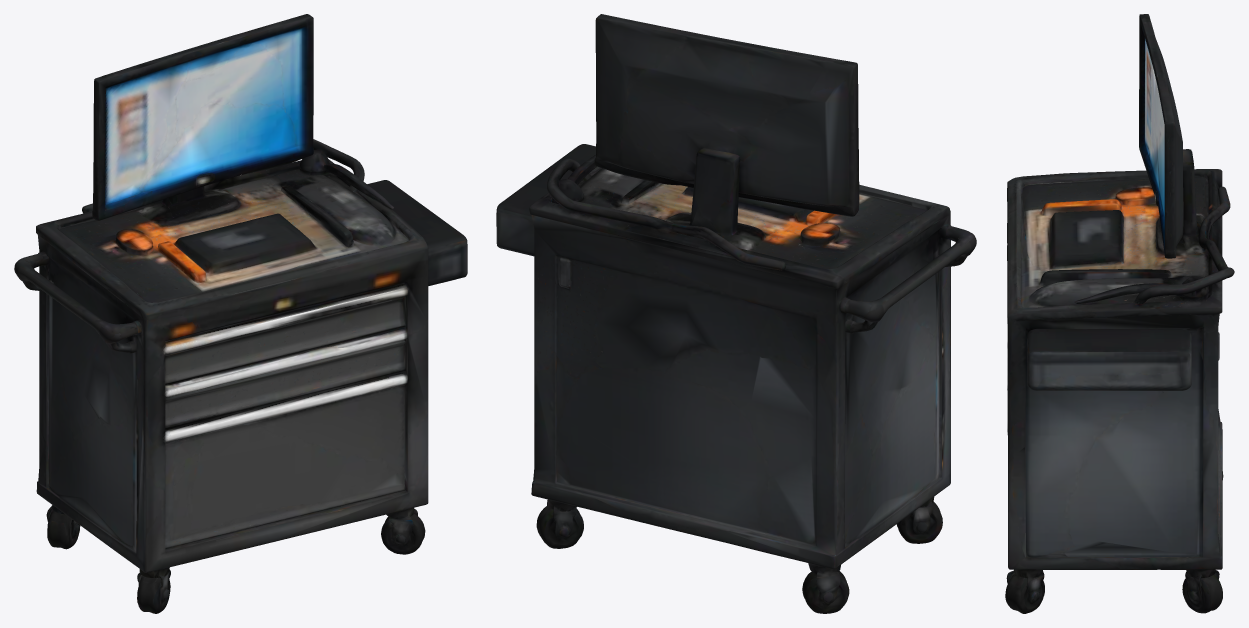
File: diagnostic.glb
The picture shows the model from 3 angles, left to right: view 1: azimuth 30°, elevation 25°; view 2: azimuth 150°, elevation 25°; view 3: azimuth 270°, elevation 25°; orthographic projection. The views are drawn at different scales.
Visible parts, largest first — view 1: node_0; view 2: node_0; view 3: node_0.
Part boxes in pixels (box(x1,y1,x2,y2)): node_0: box(14, 14, 467, 613); node_0: box(496, 14, 976, 613); node_0: box(1005, 14, 1234, 613).
Size of the model in its own units: 0.7795 by 0.9882 by 0.4284.
1 material, 1 textured.
